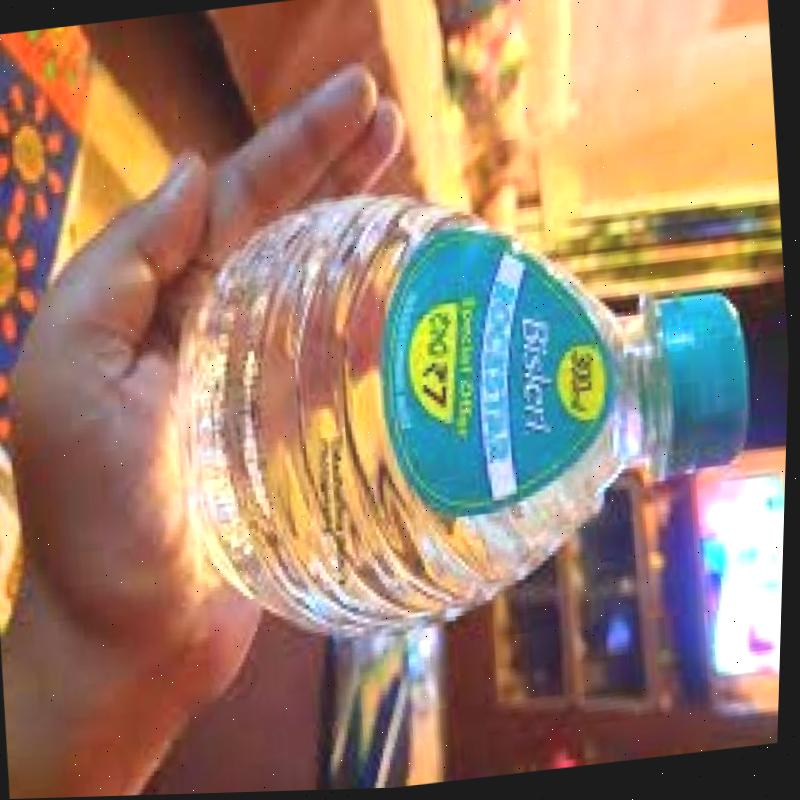botella: (164, 150, 778, 658)
